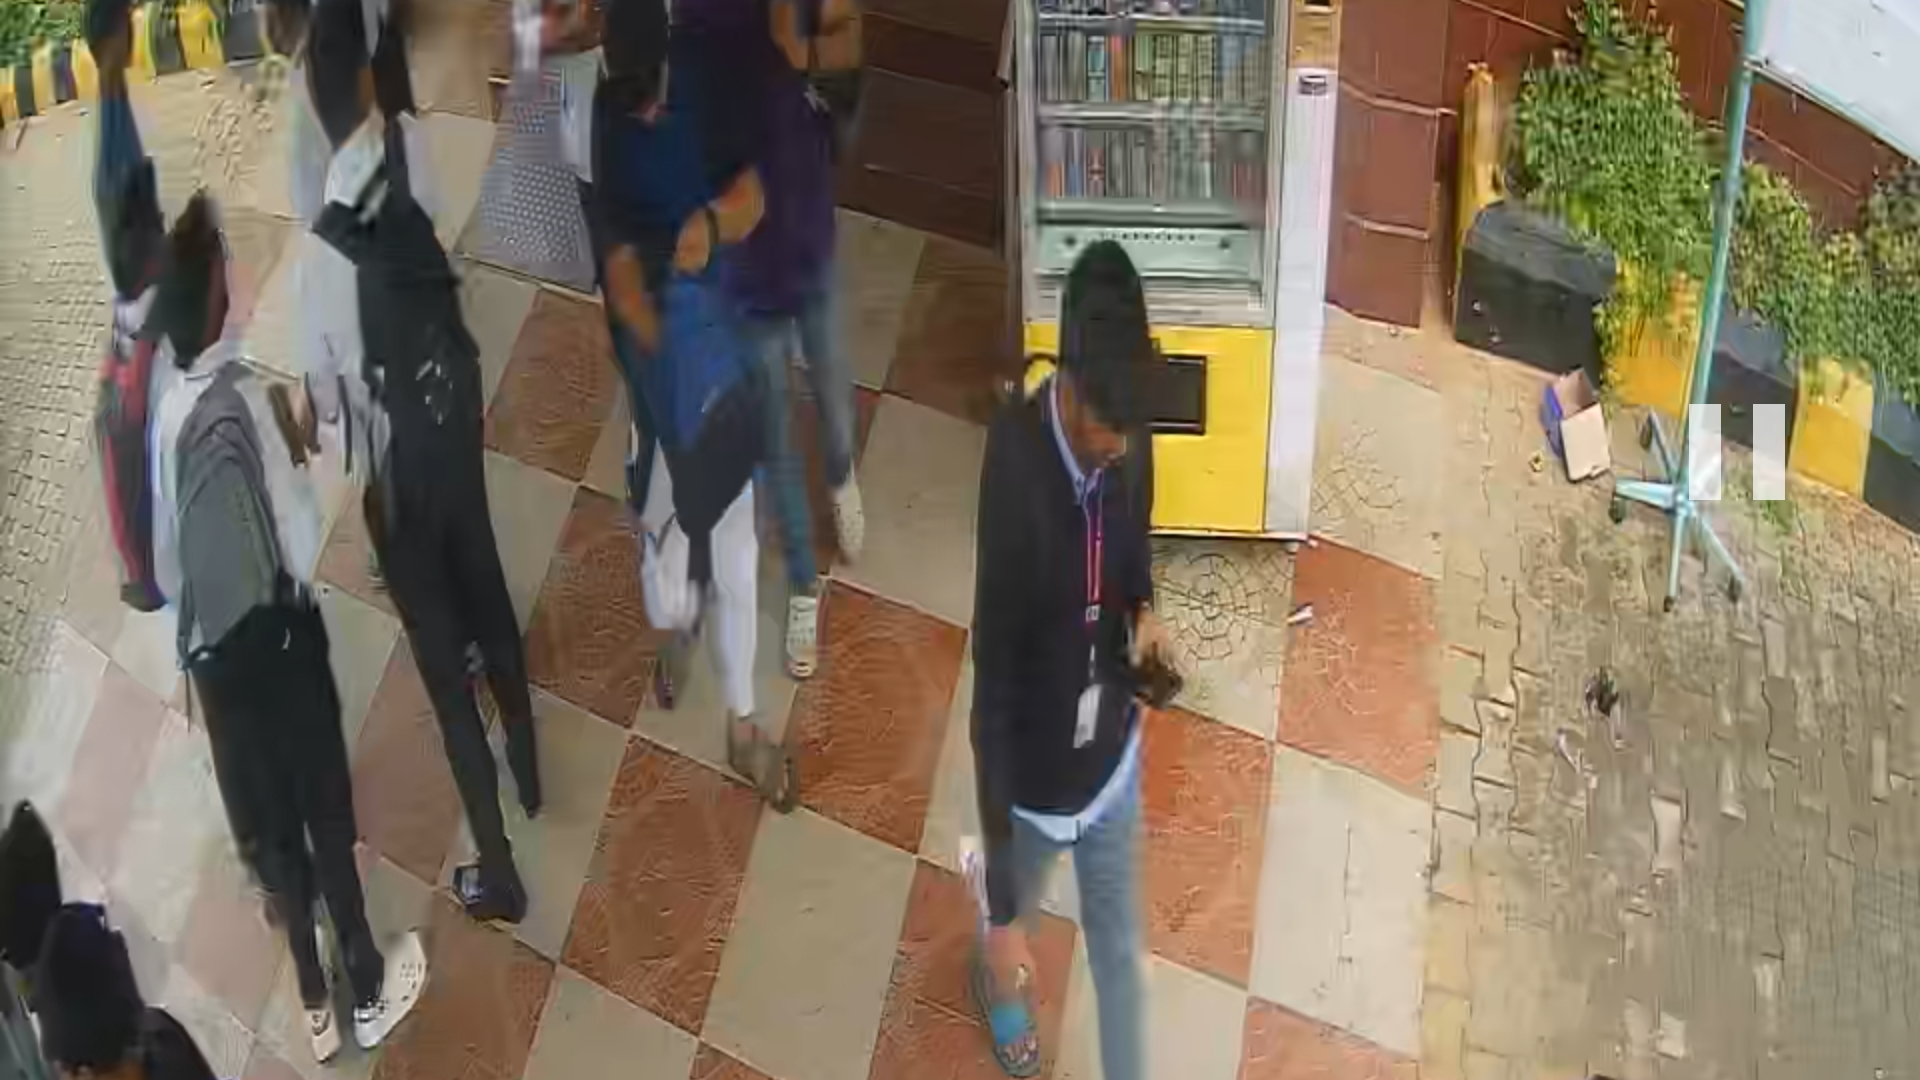not intruder: (968, 237, 1197, 1080)
